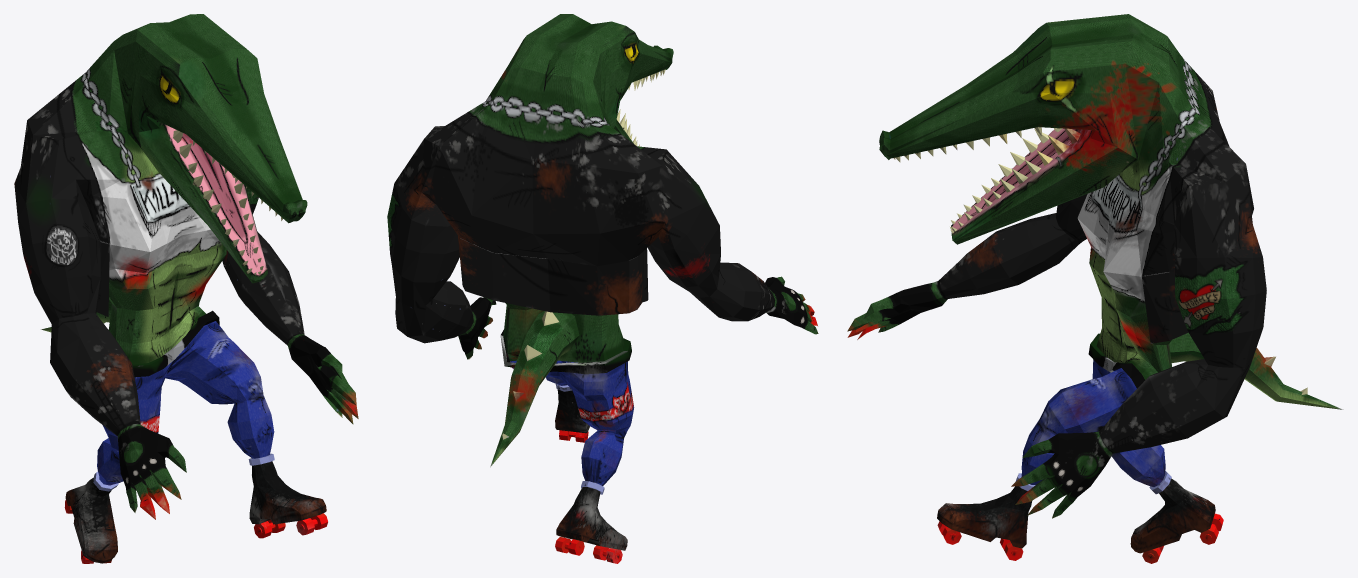
The model's file is cocodrilaBonesSelect_000004.obj.
3 views of the same model, side by side, from view 1: azimuth 30°, elevation 25°; view 2: azimuth 150°, elevation 25°; view 3: azimuth 270°, elevation 25° (orthographic). The views are drawn at different scales.
Visible parts, largest first — view 1: Crocodile.002_Cylinder.002; view 2: Crocodile.002_Cylinder.002; view 3: Crocodile.002_Cylinder.002.
Boxes of the visible parts, x1,y1,x2,y2 form: Crocodile.002_Cylinder.002: (14, 14, 358, 563); Crocodile.002_Cylinder.002: (387, 14, 818, 563); Crocodile.002_Cylinder.002: (847, 14, 1343, 563).
Size of the model in its own units: 3.79 by 6.55 by 5.25.
